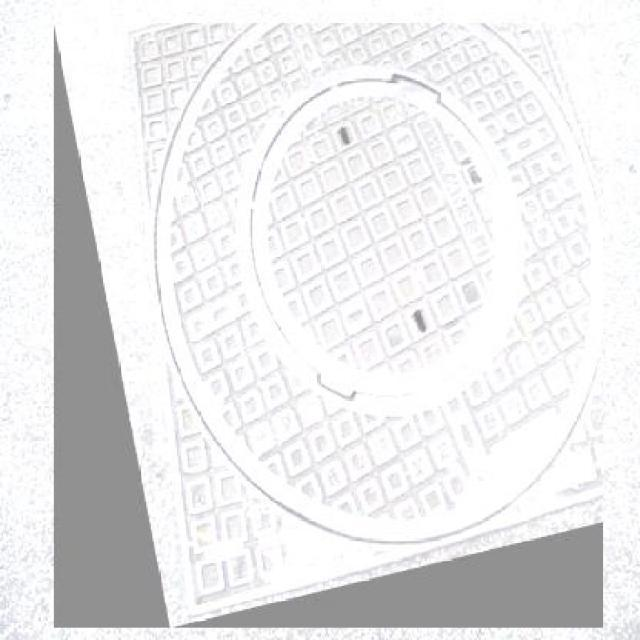Manhole: (54, 23, 603, 628)
